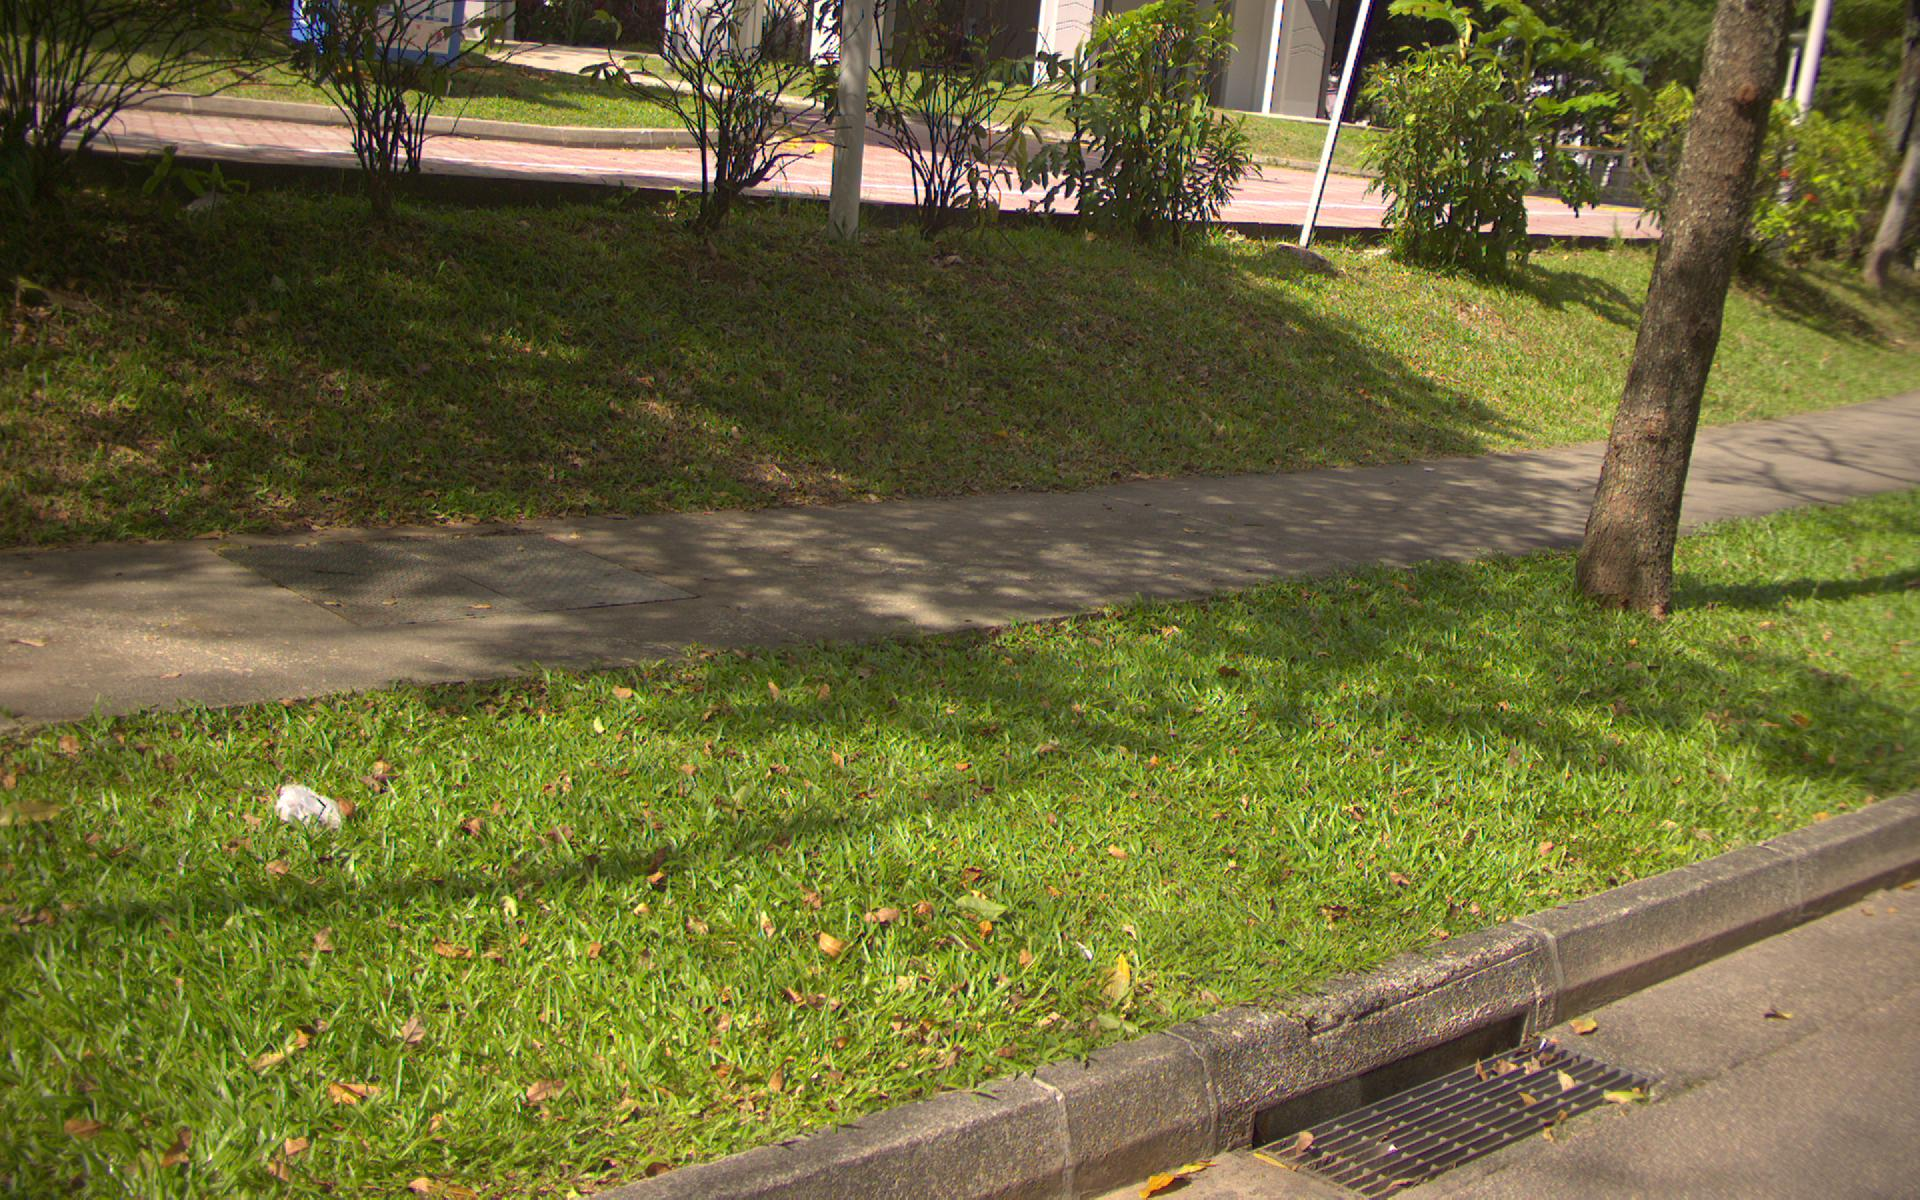curb_grill_low: (1241, 1031, 1644, 1194)
road_turf_low: (14, 547, 1901, 1194)
